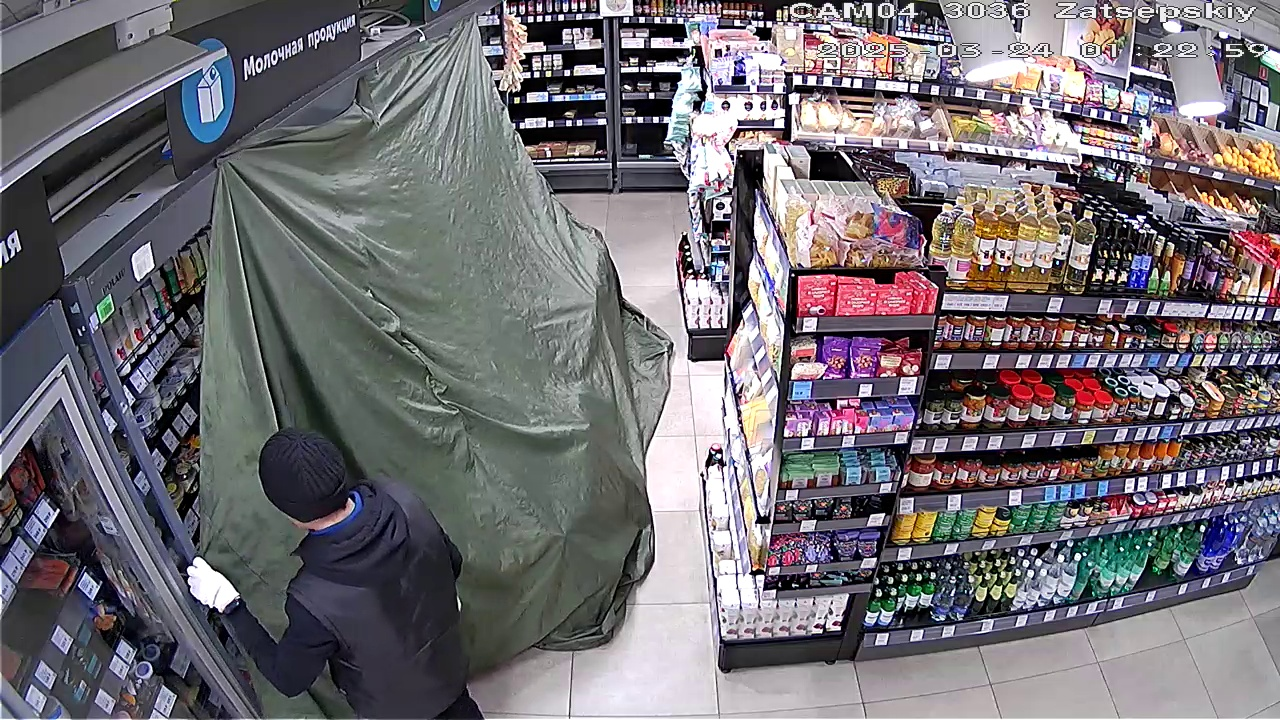Human: (184, 426, 491, 719)
dome: (196, 52, 676, 711)
